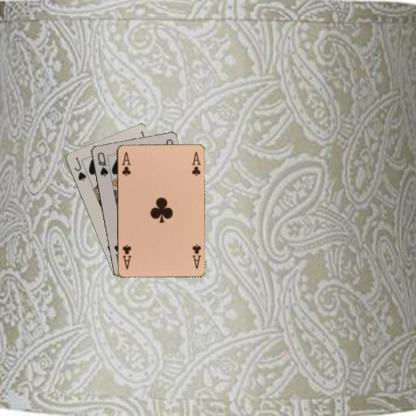Ac: (119, 149, 132, 177), (190, 241, 202, 270)
Js: (72, 155, 87, 182)
Qs: (95, 150, 109, 177)
